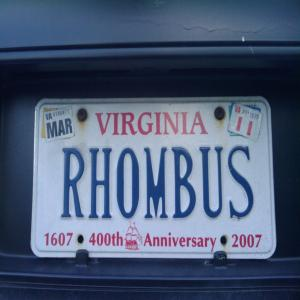Vehicle-registration-plate: (31, 95, 279, 262)
